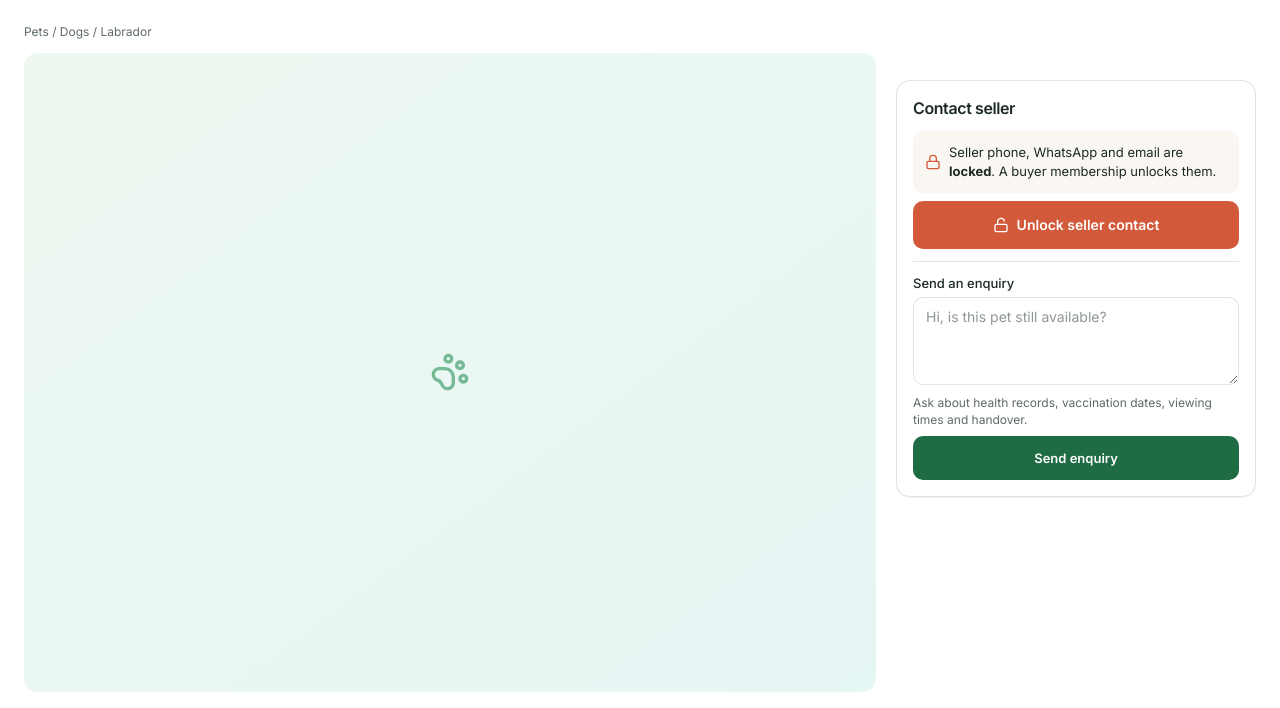
it: pet detail: contact locking › 402 membership_required opens the plan picker from the API plans
Click the button "Unlock seller contact" at {"x": 1076, "y": 225}, box [913,201,1239,249]
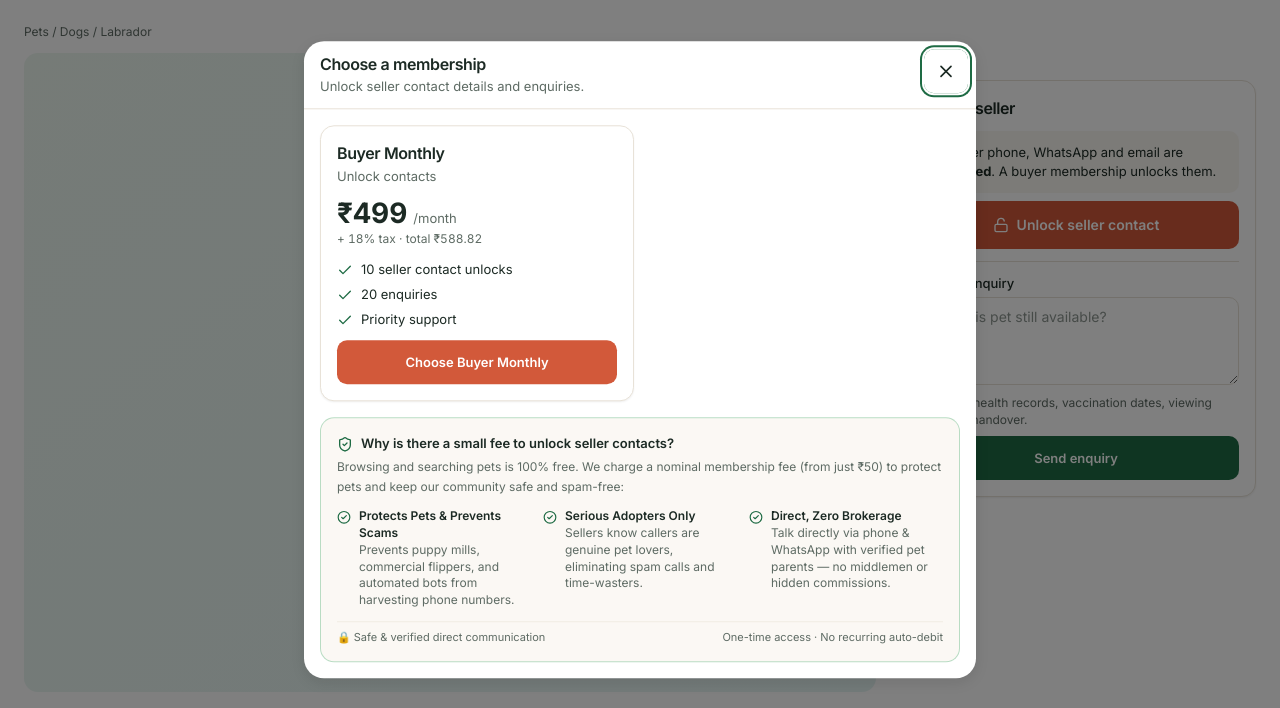
Expected: the heading "Choose a membership" is shown, [320,54,486,74]
Expected: the button "Choose Buyer Monthly" is shown, [337,341,617,385]
